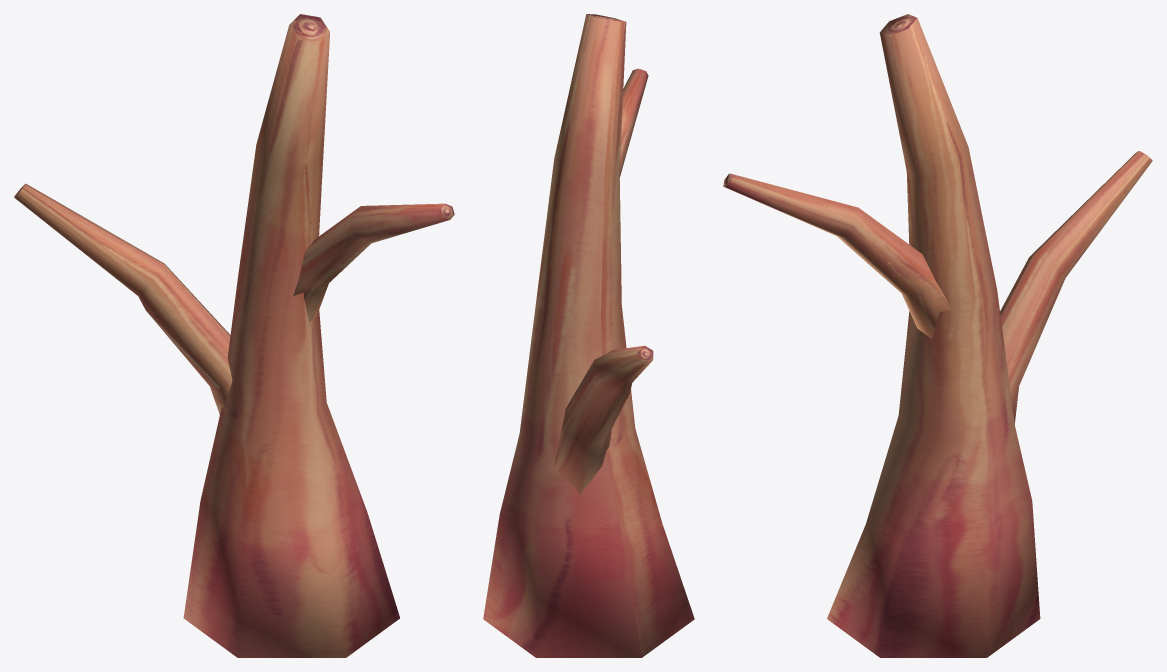
The model's file is m_treeBark_02.fbx.
The picture shows the model from 3 angles, left to right: view 1: azimuth 30°, elevation 25°; view 2: azimuth 150°, elevation 25°; view 3: azimuth 270°, elevation 25°; orthographic projection. The views are drawn at different scales.
Parts seen in each view (by area): view 1: m_treeBark_02; view 2: m_treeBark_02; view 3: m_treeBark_02.
Part boxes in pixels (x1,y1,x2,y2): m_treeBark_02: (14,14,454,657); m_treeBark_02: (483,14,694,657); m_treeBark_02: (723,14,1152,657).
Bounding box in the file's own units: 233 × 538 × 349.
